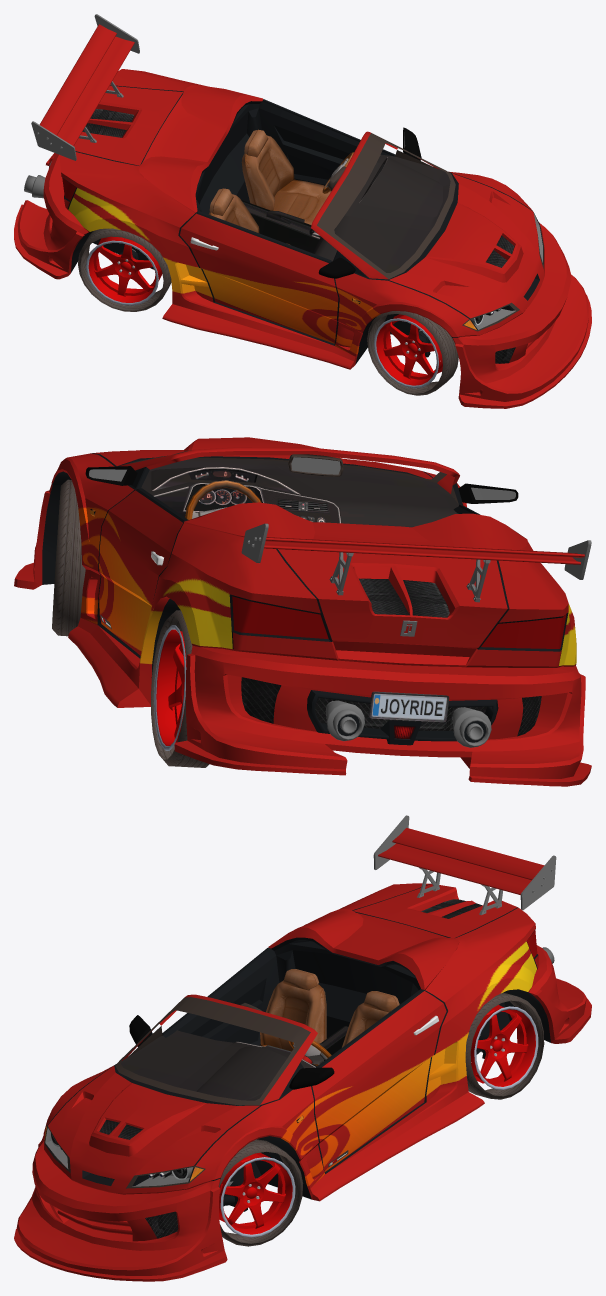
File: car.glb
3 renders of one model, top to bottom at view 1: azimuth 30°, elevation 25°; view 2: azimuth 150°, elevation 25°; view 3: azimuth 270°, elevation 25°, orthographic. The views are drawn at different scales.
Visible parts, largest first — view 1: node_id133, node_id109, node_id107, node_id41, node_id131, node_id141, node_id127, node_id80, node_id71, node_id77, node_id86, node_id39 (+3 smaller); view 2: node_id133, node_id107, node_id109, node_id137, node_id131, node_id115, node_id41, node_id104, node_id89, node_id39, node_id34, node_id60 (+7 smaller); view 3: node_id133, node_id109, node_id107, node_id41, node_id131, node_id127, node_id98, node_id89, node_id51, node_id39, node_id95, node_id104 (+4 smaller).
Boxes of the visible parts, x1,y1,x2,y2 form: node_id133: (17, 69, 588, 401); node_id109: (62, 85, 543, 364); node_id107: (241, 154, 450, 272); node_id41: (39, 24, 134, 146); node_id131: (14, 153, 591, 408); node_id141: (241, 129, 331, 224); node_id127: (317, 133, 543, 331); node_id80: (86, 236, 162, 305); node_id71: (374, 314, 442, 388); node_id77: (367, 311, 458, 395); node_id86: (78, 228, 171, 311); node_id39: (31, 14, 139, 160); node_id133: (33, 437, 585, 778); node_id107: (141, 458, 458, 527); node_id109: (42, 453, 568, 745); node_id137: (241, 578, 541, 736); node_id131: (14, 562, 591, 786); node_id115: (232, 596, 566, 648); node_id41: (264, 537, 584, 564); node_id104: (52, 479, 85, 636); node_id89: (154, 625, 186, 750); node_id39: (241, 523, 591, 602); node_id34: (325, 700, 491, 747); node_id60: (369, 691, 449, 722); node_id133: (16, 883, 586, 1275); node_id109: (44, 883, 550, 1206); node_id107: (121, 1026, 348, 1100); node_id41: (378, 828, 544, 894); node_id131: (14, 998, 591, 1281); node_id127: (44, 997, 310, 1188); node_id98: (219, 1152, 295, 1237); node_id89: (470, 1005, 538, 1089); node_id51: (260, 980, 326, 1051); node_id39: (373, 815, 556, 915); node_id95: (465, 992, 544, 1099); node_id104: (219, 1139, 303, 1246).
Size of the model in its own units: 0.948 by 0.5236 by 0.9583.
51 materials, 51 textured.
